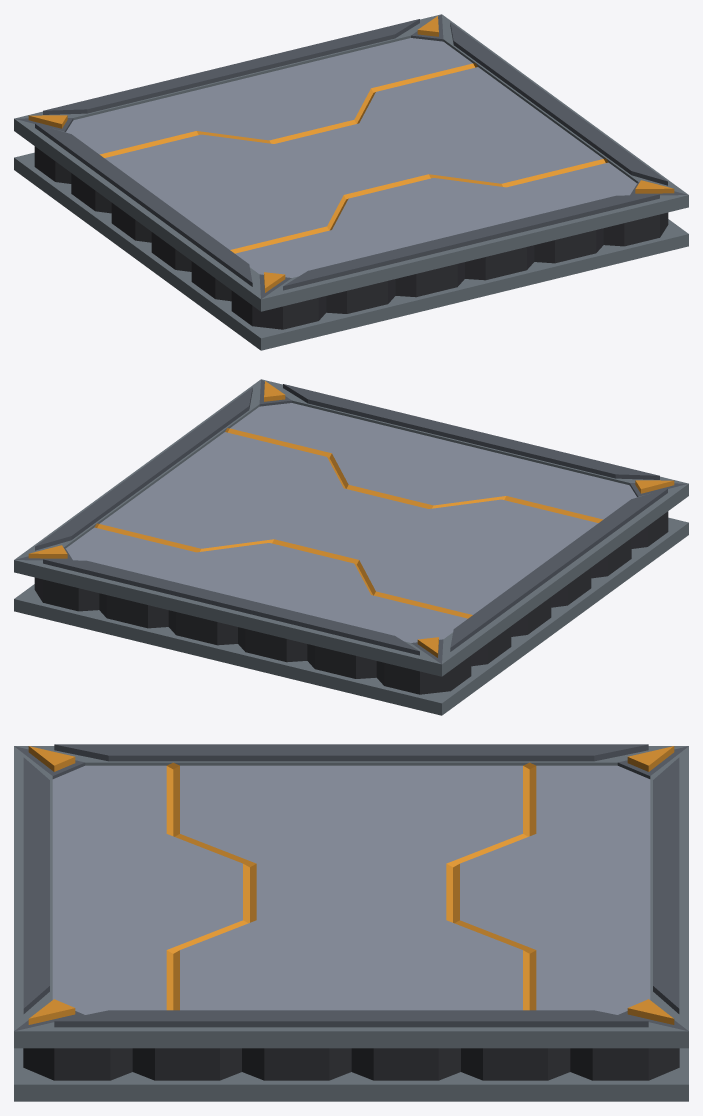
Rendered from SM_Platform_0.glb.
3 views of the same model, one above another, from view 1: azimuth 30°, elevation 25°; view 2: azimuth 150°, elevation 25°; view 3: azimuth 270°, elevation 25° (orthographic). The views are drawn at different scales.
Parts seen in each view (by area): view 1: SM_Platform_0.5; view 2: SM_Platform_0.5; view 3: SM_Platform_0.5.
Boxes of the visible parts, x1,y1,x2,y2 form: SM_Platform_0.5: (14, 14, 688, 350); SM_Platform_0.5: (14, 379, 688, 715); SM_Platform_0.5: (14, 744, 688, 1101).
Size of the model in its own units: 4 by 0.5 by 4.
Materials: 1 (1 with a texture image).
